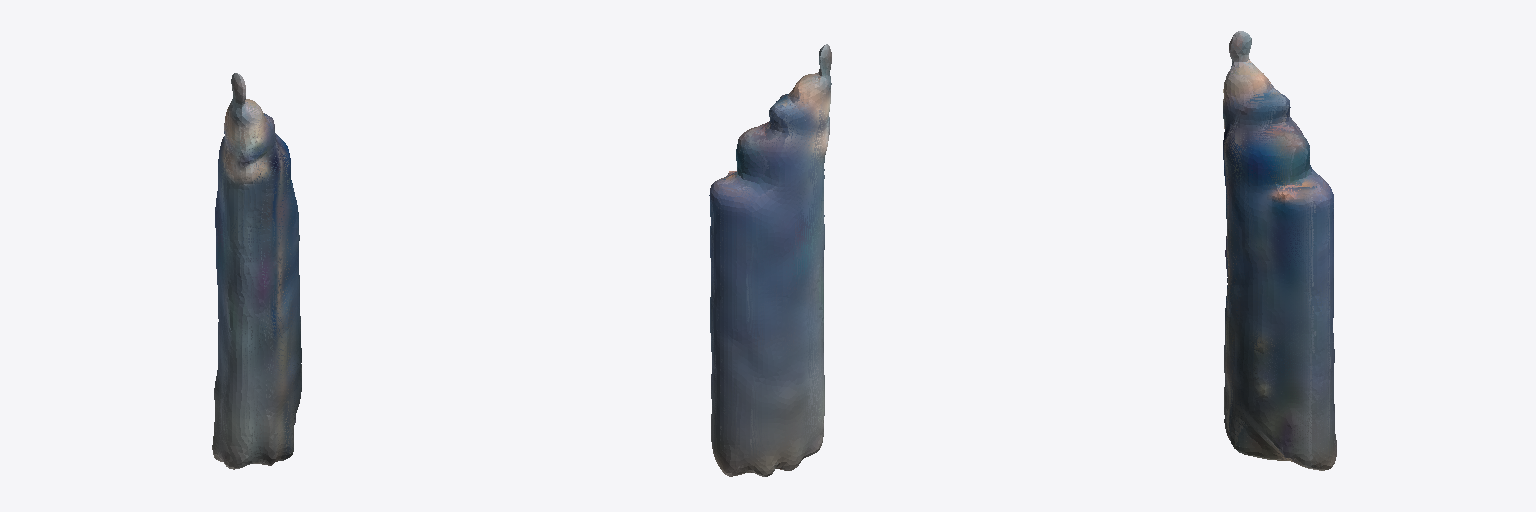
The picture shows the model from 3 angles: view 1: azimuth 30°, elevation 25°; view 2: azimuth 150°, elevation 25°; view 3: azimuth 270°, elevation 25°; orthographic projection.
Bounding box in the file's own units: 0.2375 × 1.11 × 0.2795.
Materials: 1 (1 with a texture image).